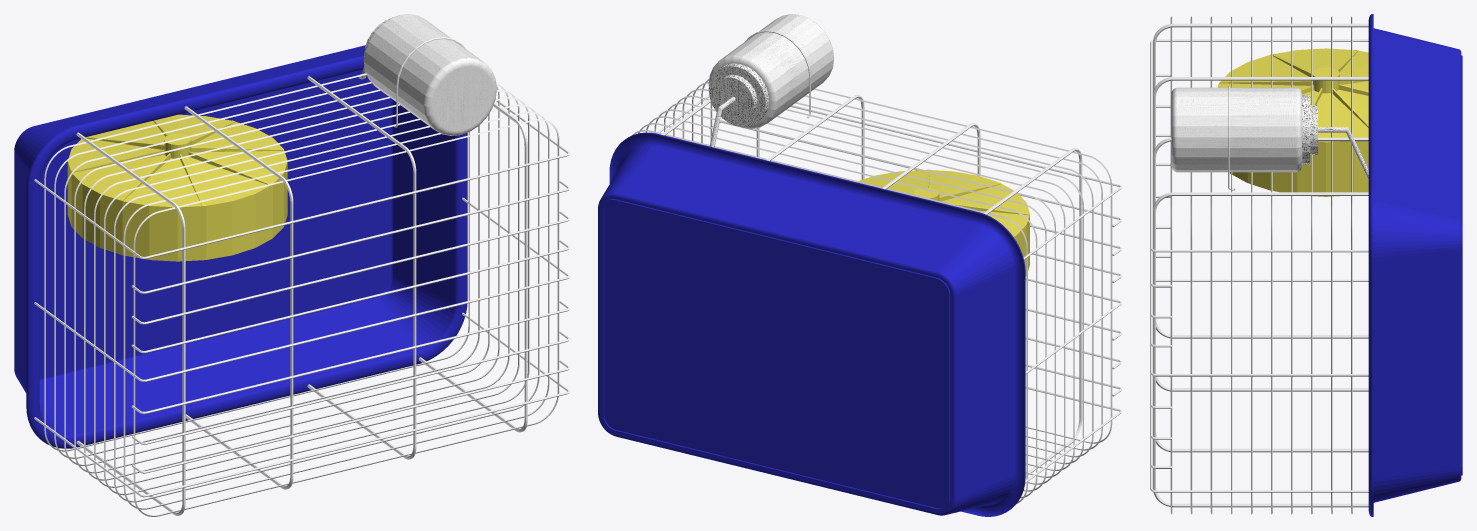
3 views of the same model, side by side, from view 1: azimuth 30°, elevation 25°; view 2: azimuth 150°, elevation 25°; view 3: azimuth 270°, elevation 25° (orthographic). The views are drawn at different scales.
Visible parts, largest first — view 1: blue hamster cage; view 2: blue hamster cage; view 3: blue hamster cage.
Boxes of the visible parts, x1,y1,x2,y2 form: blue hamster cage: (14,14,569,516); blue hamster cage: (598,14,1121,516); blue hamster cage: (1150,14,1462,516).
Size of the model in its own units: 50.43 by 42.81 by 30.66.
